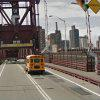Bus: (24, 50, 48, 77)
